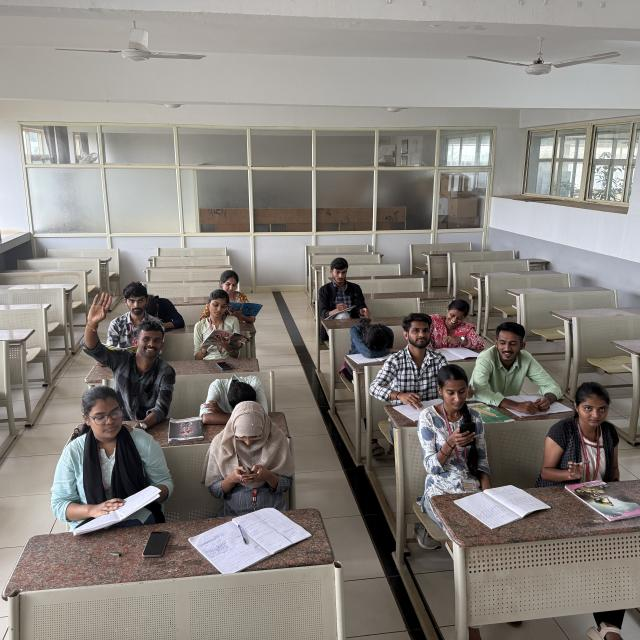Hand Rising: (63, 292, 176, 386)
Reading: (52, 380, 167, 516), (186, 286, 254, 358), (200, 256, 268, 321), (433, 293, 487, 363)
Sleeping: (184, 369, 272, 422), (126, 276, 190, 332), (343, 321, 400, 361)
Using Phone: (201, 398, 302, 503), (417, 364, 504, 470)
Writing: (318, 248, 380, 320)
